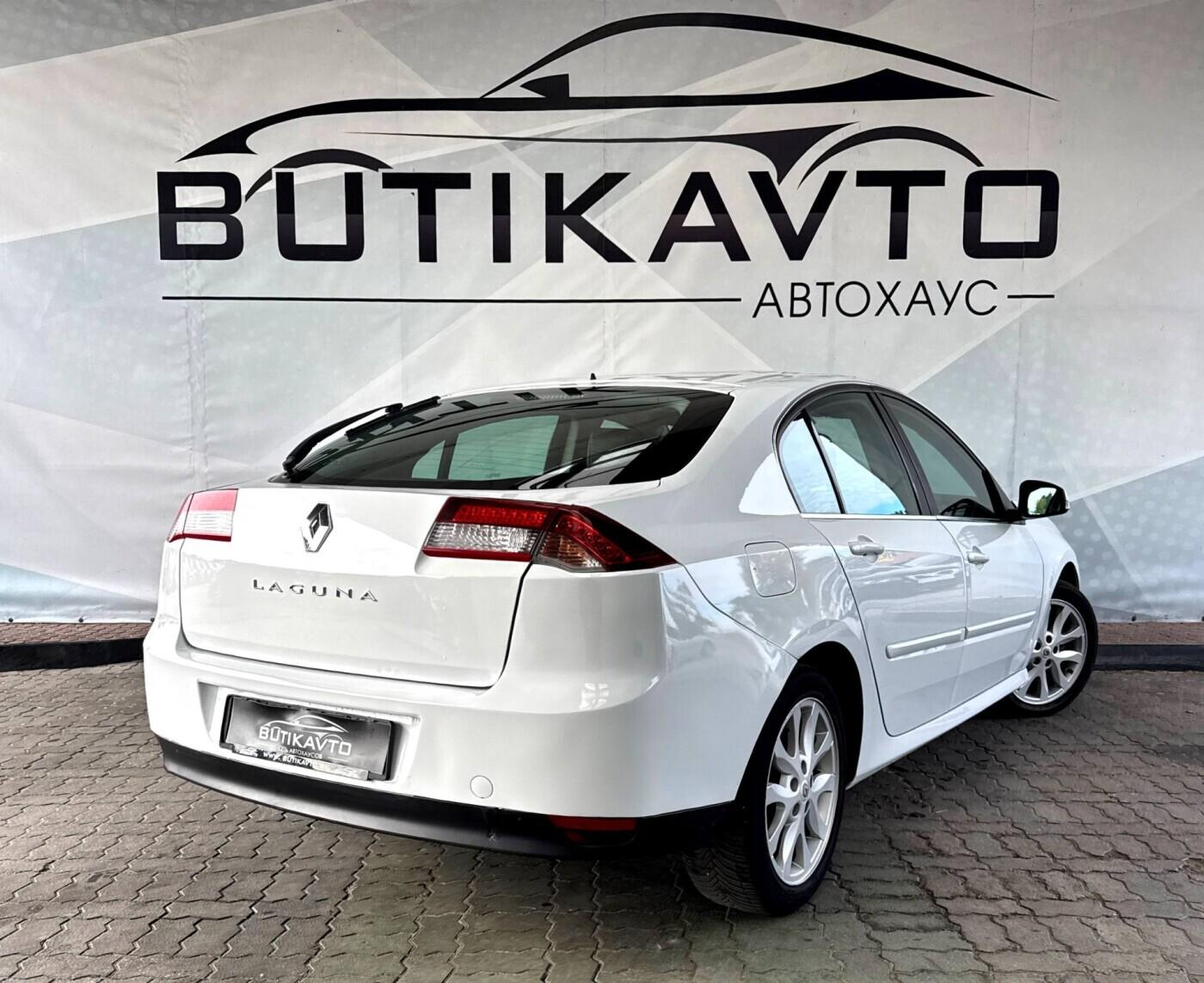Laguna_2010-2015: (130, 365, 1107, 936)
